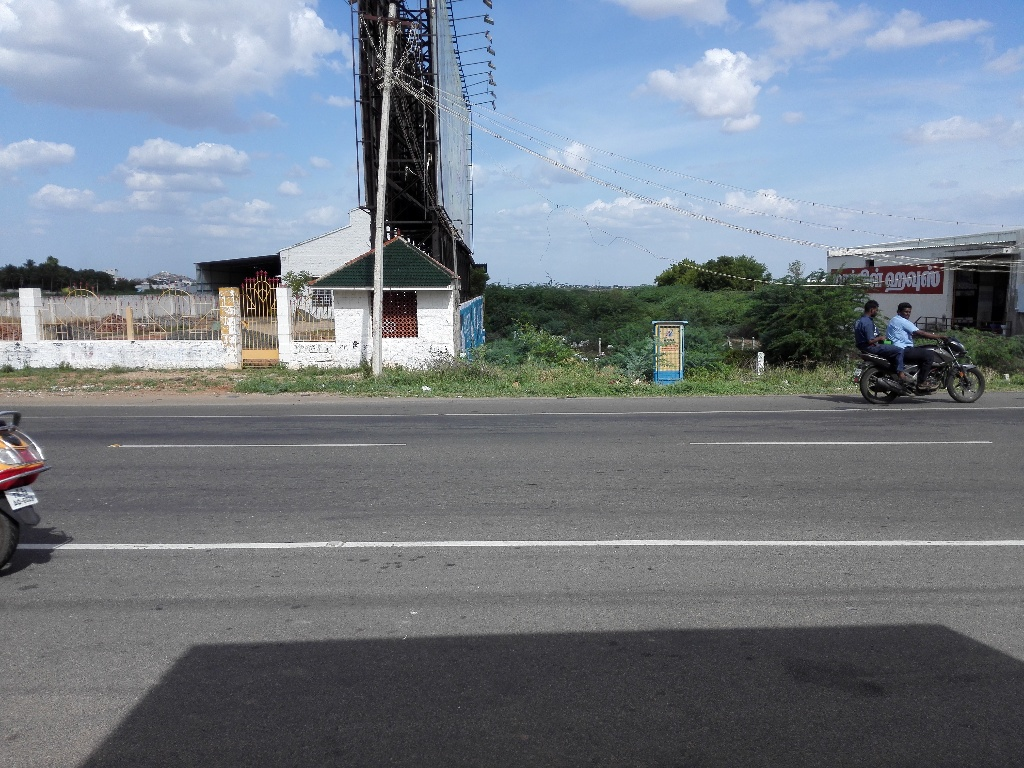biker: (839, 266, 993, 416)
nohelmet: (860, 293, 886, 330), (893, 296, 920, 328)
